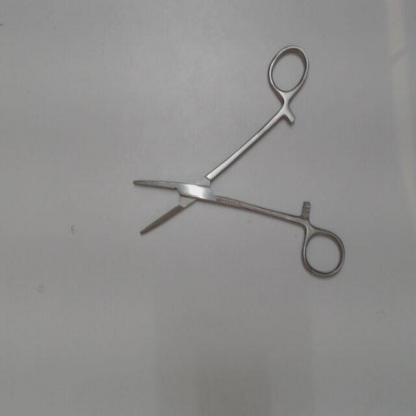Mayo Needle Holder: (127, 38, 350, 284)
